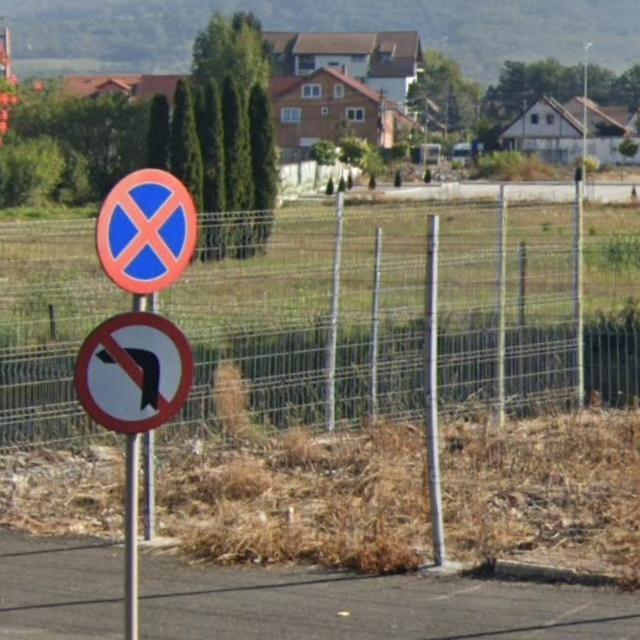forb_waiting: (94, 166, 201, 296)
